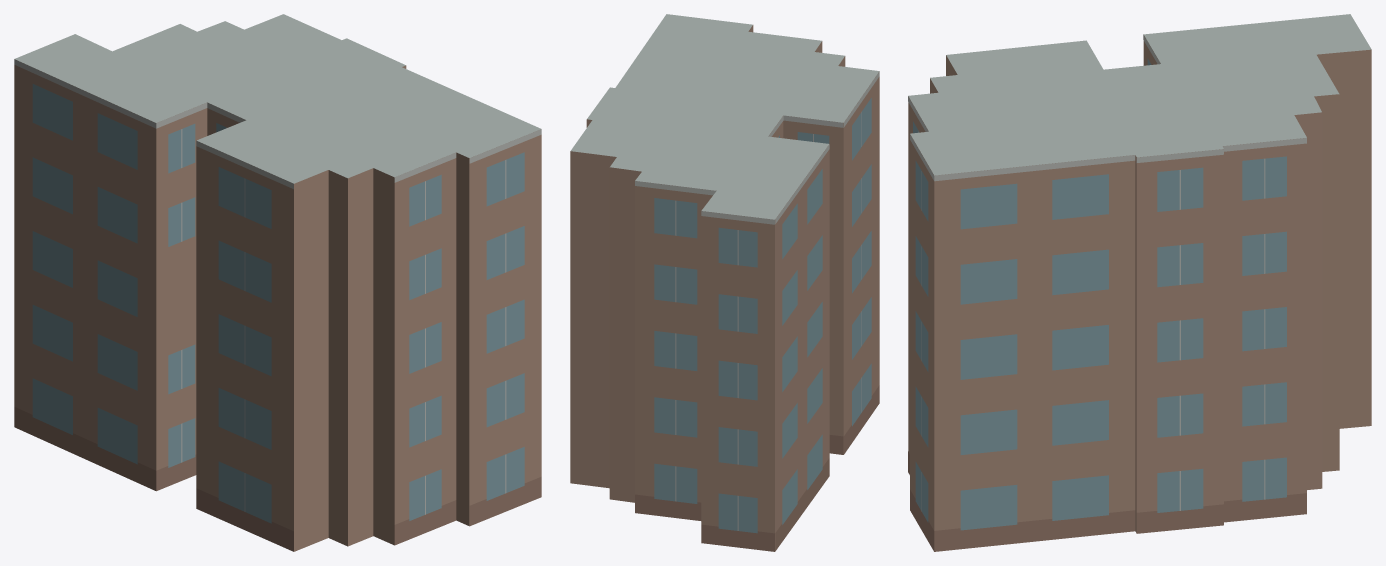
Rendered from survey-upis-32532903.glb.
3 views of the same model, side by side, from view 1: azimuth 30°, elevation 25°; view 2: azimuth 150°, elevation 25°; view 3: azimuth 270°, elevation 25° (orthographic). The views are drawn at different scales.
Visible parts, largest first — view 1: survey-upis-32532903.tmp; view 2: survey-upis-32532903.tmp; view 3: survey-upis-32532903.tmp.
Boxes of the visible parts, x1=… form: survey-upis-32532903.tmp: x1=14, y1=14, x2=541, y2=551; survey-upis-32532903.tmp: x1=570, y1=14, x2=879, y2=551; survey-upis-32532903.tmp: x1=908, y1=14, x2=1371, y2=551.
Size of the model in its own units: 14.74 by 16 by 17.87.
